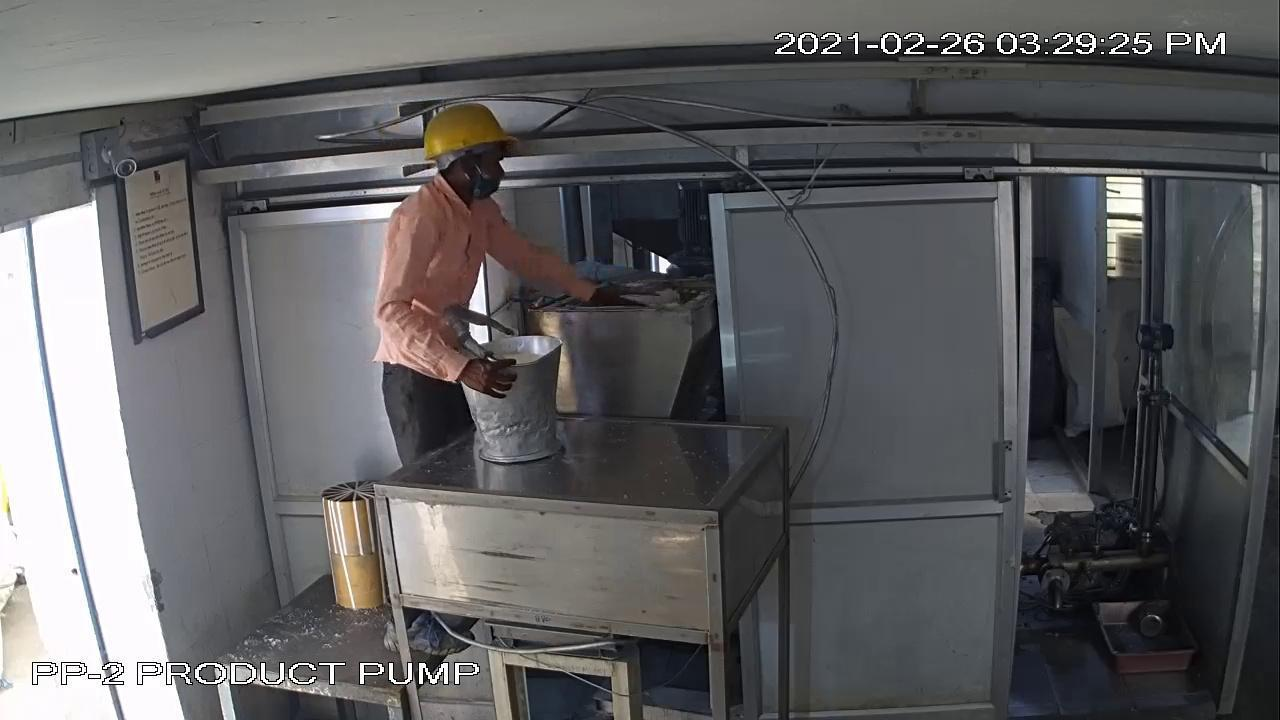helmet: (417, 103, 527, 162)
